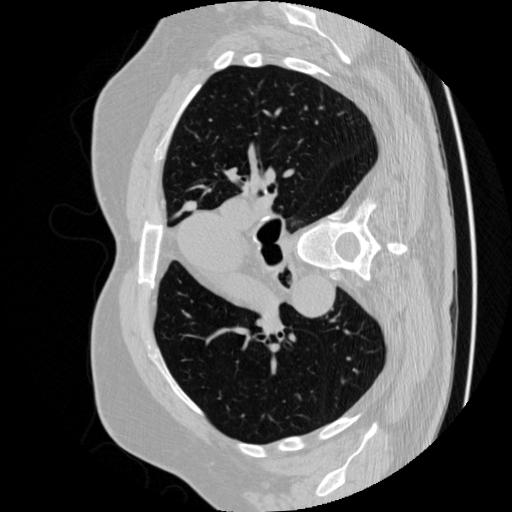nodule: (180, 195, 199, 214)
